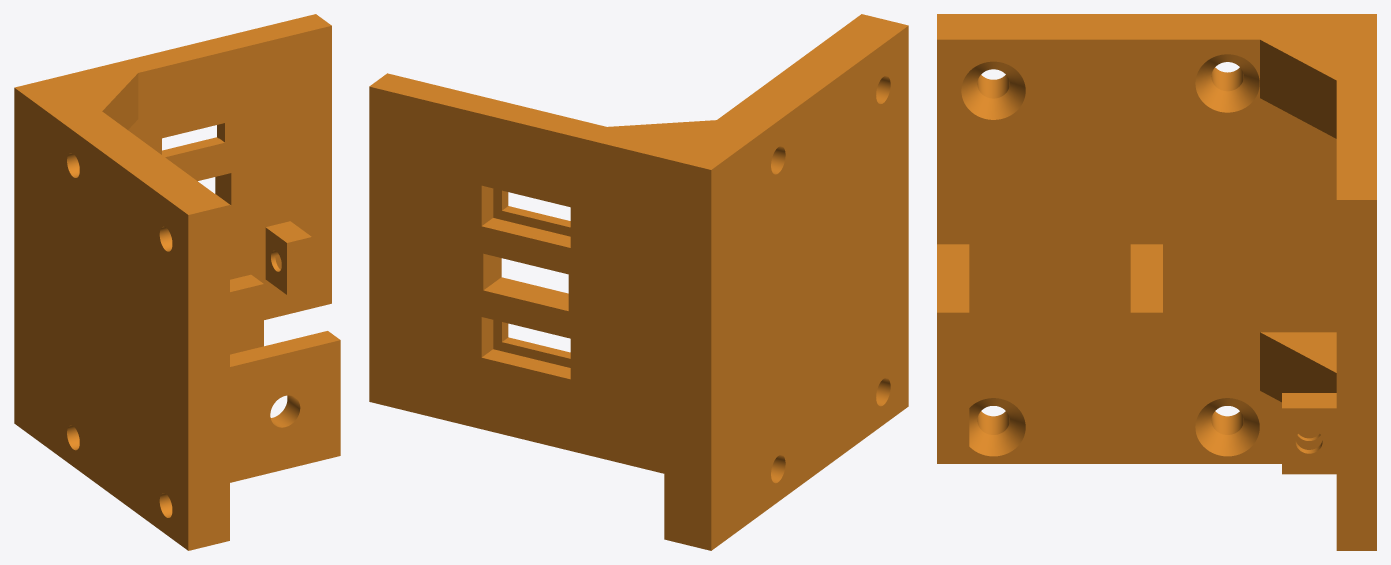
Rendered from eixo_bloco_tensor_semfc.glb.
The picture shows the model from 3 angles, left to right: view 1: azimuth 30°, elevation 25°; view 2: azimuth 150°, elevation 25°; view 3: azimuth 270°, elevation 25°; orthographic projection. The views are drawn at different scales.
Parts seen in each view (by area): view 1: eixo_bloco_tensor_semfc; view 2: eixo_bloco_tensor_semfc; view 3: eixo_bloco_tensor_semfc.
Boxes of the visible parts, box(x1,y1,x2,y2) form: eixo_bloco_tensor_semfc: box(14, 14, 340, 550); eixo_bloco_tensor_semfc: box(369, 14, 908, 550); eixo_bloco_tensor_semfc: box(937, 14, 1376, 550).
Bounding box in the file's own units: 54.5 × 58 × 54.5.
